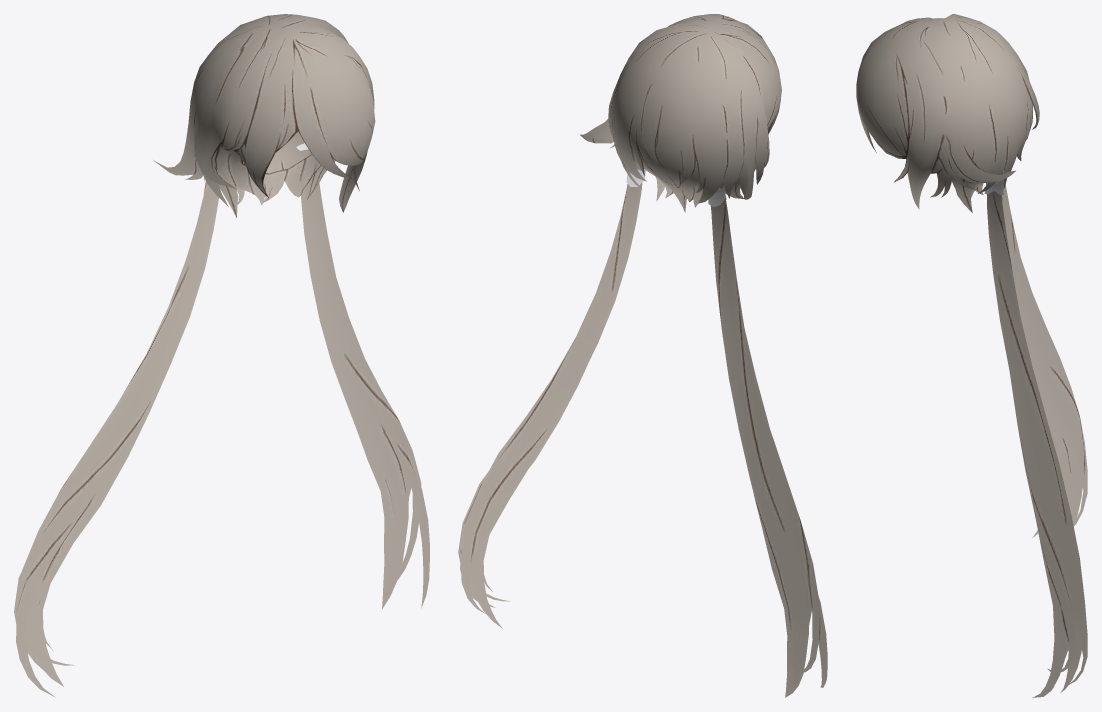
Rendered from Rita_Hair.fbx.
The picture shows the model from 3 angles, left to right: view 1: azimuth 30°, elevation 25°; view 2: azimuth 150°, elevation 25°; view 3: azimuth 270°, elevation 25°; orthographic projection. The views are drawn at different scales.
Parts seen in each view (by area): view 1: Capsule; view 2: Capsule; view 3: Capsule.
Part boxes in pixels (bbox=[...]): Capsule: bbox=[14, 14, 429, 697]; Capsule: bbox=[458, 14, 827, 697]; Capsule: bbox=[856, 14, 1087, 697].
Size of the model in its own units: 0.5663 by 0.8804 by 0.307.
1 material, 1 textured.
